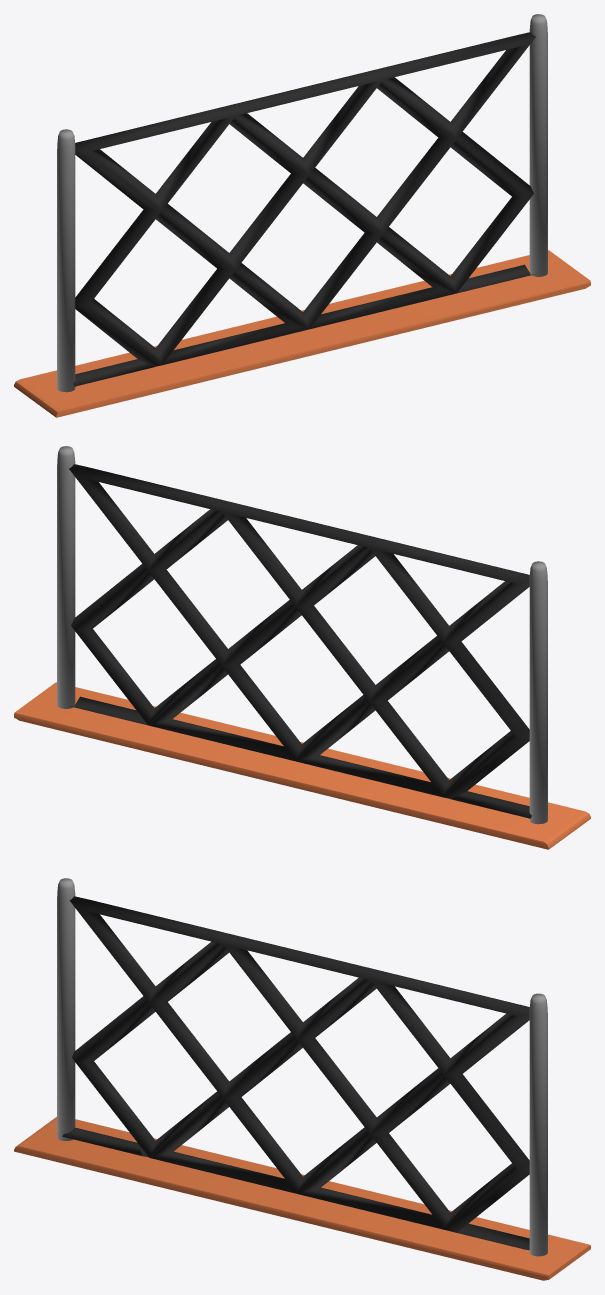
File: fence1.fbx
The picture shows the model from 3 angles, top to bottom: view 1: azimuth 30°, elevation 25°; view 2: azimuth 150°, elevation 25°; view 3: azimuth 330°, elevation 25°; orthographic projection.
Visible parts, largest first — view 1: Grid.001, Plane, Cylinder; view 2: Grid.001, Plane, Cylinder; view 3: Grid.001, Plane, Cylinder.
Part boxes in pixels (x1,y1,x2,y2): Grid.001: [73, 32, 535, 386]; Plane: [14, 250, 590, 417]; Cylinder: [57, 14, 547, 392]; Grid.001: [69, 464, 531, 818]; Plane: [14, 682, 590, 849]; Cylinder: [57, 446, 547, 824]; Grid.001: [62, 896, 529, 1250]; Plane: [14, 1117, 590, 1280]; Cylinder: [57, 878, 547, 1256].
Size of the model in its own units: 242 by 113 by 33.21.
